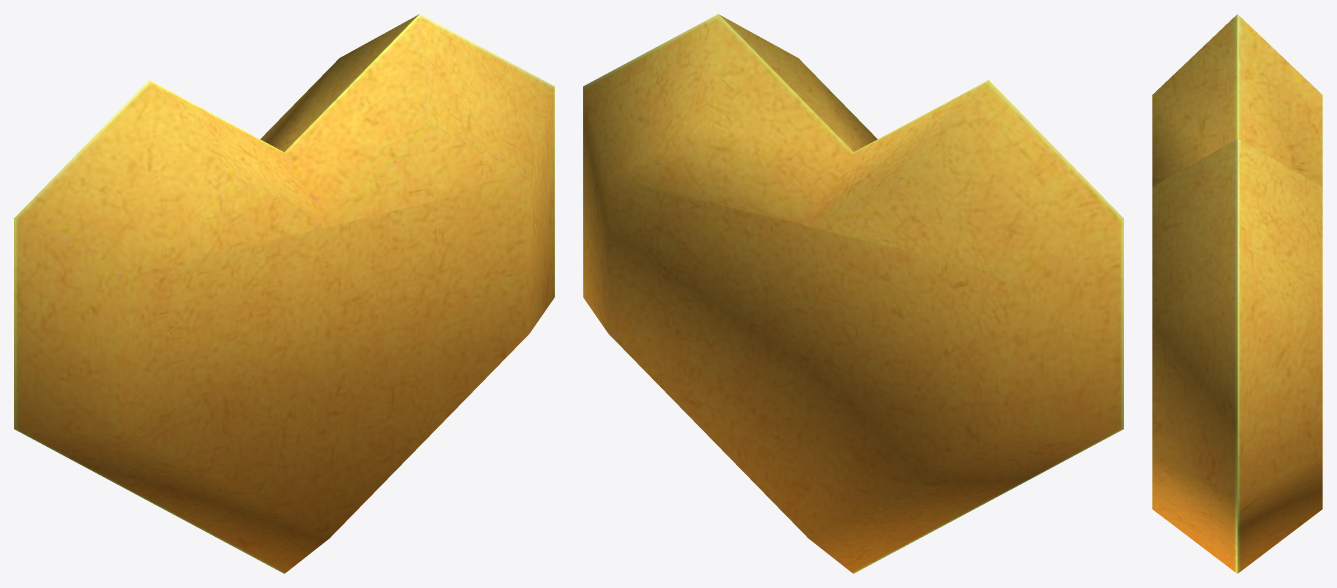
File: health_25.glb
3 views of the same model, side by side, from view 1: azimuth 30°, elevation 25°; view 2: azimuth 150°, elevation 25°; view 3: azimuth 270°, elevation 25° (orthographic). The views are drawn at different scales.
Visible parts, largest first — view 1: health_25; view 2: health_25; view 3: health_25.
Part boxes in pixels (bbox=[...]): health_25: bbox=[14, 14, 554, 573]; health_25: bbox=[583, 14, 1123, 573]; health_25: bbox=[1152, 14, 1322, 573].
Size of the model in its own units: 0.3957 by 0.3685 by 0.1142.
1 material, 1 textured.
